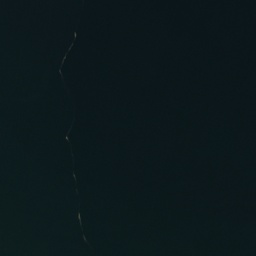Marine Debris: (58, 32, 78, 78), (64, 125, 75, 164), (71, 172, 78, 185)
